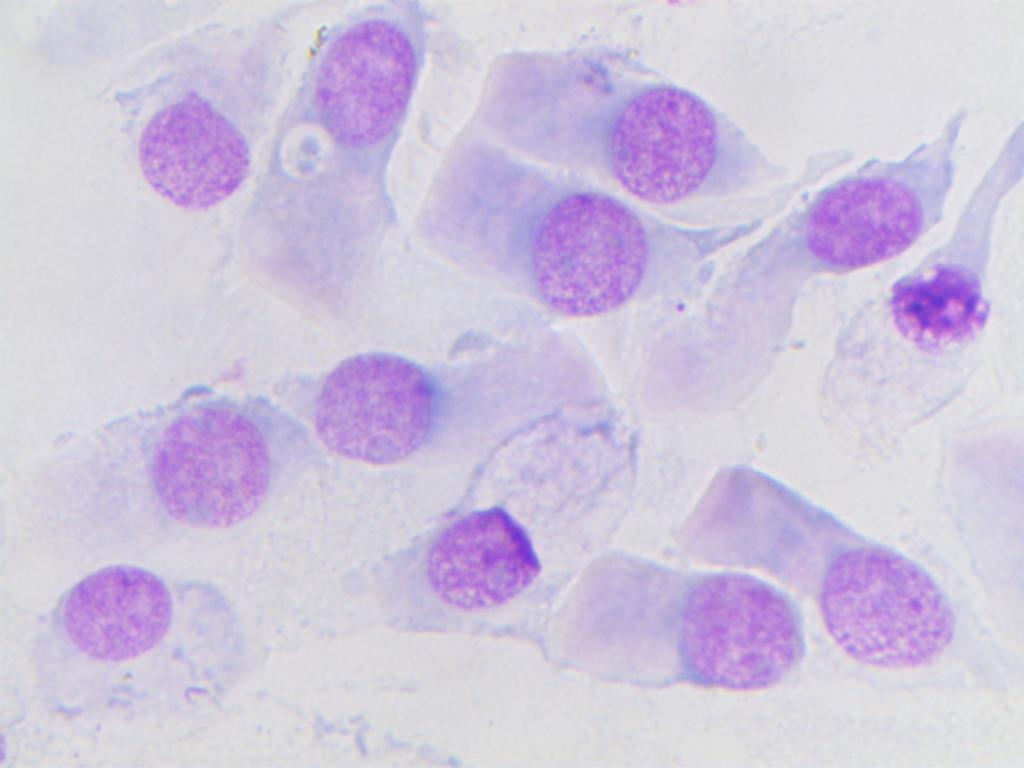ciliated: (666, 449, 992, 694), (237, 12, 444, 329), (682, 162, 944, 384), (482, 38, 755, 204), (404, 131, 649, 311), (560, 550, 797, 707)
epithelial: (71, 4, 275, 229), (25, 558, 274, 726), (82, 378, 302, 553), (870, 256, 1005, 380)
goblet_cell: (315, 337, 646, 469), (418, 432, 642, 618)
